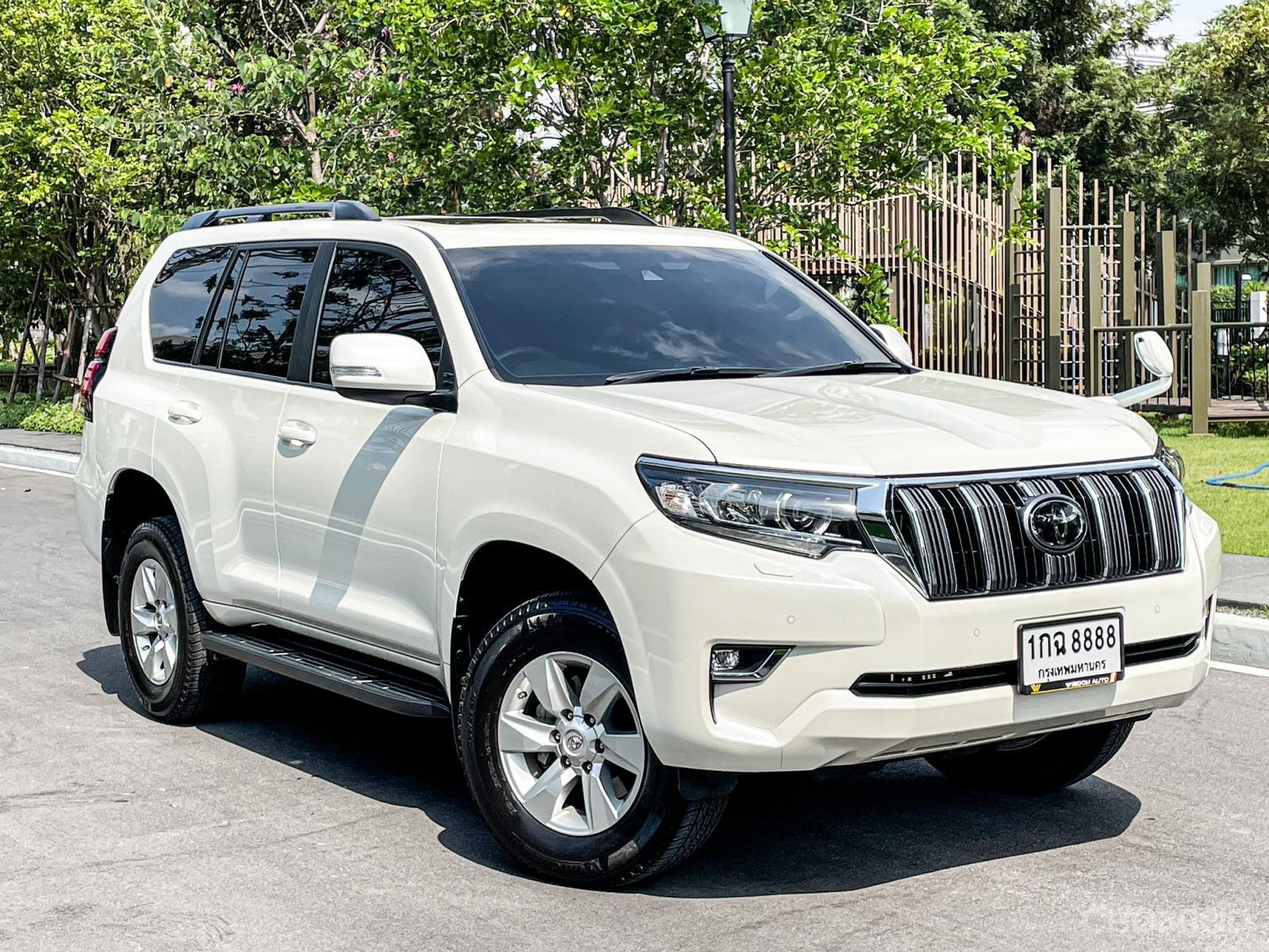license-plate: (1010, 607, 1131, 698)
